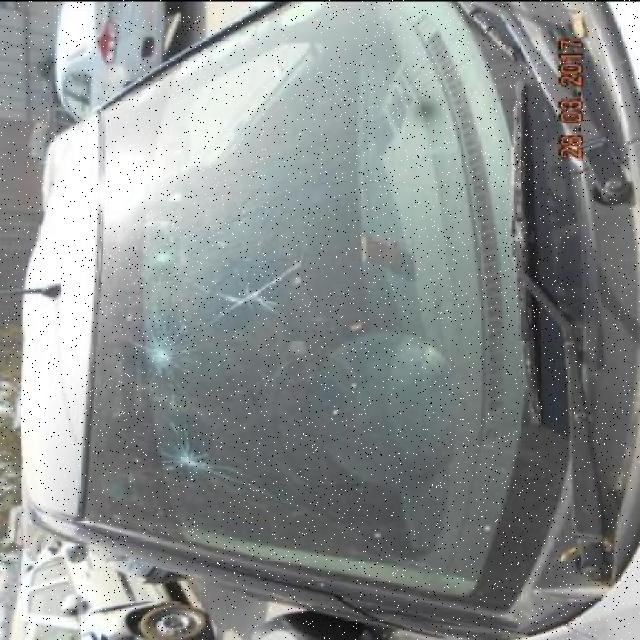damage: (212, 254, 296, 312), (137, 231, 187, 277), (157, 440, 217, 477), (140, 331, 185, 379), (147, 179, 185, 212)
